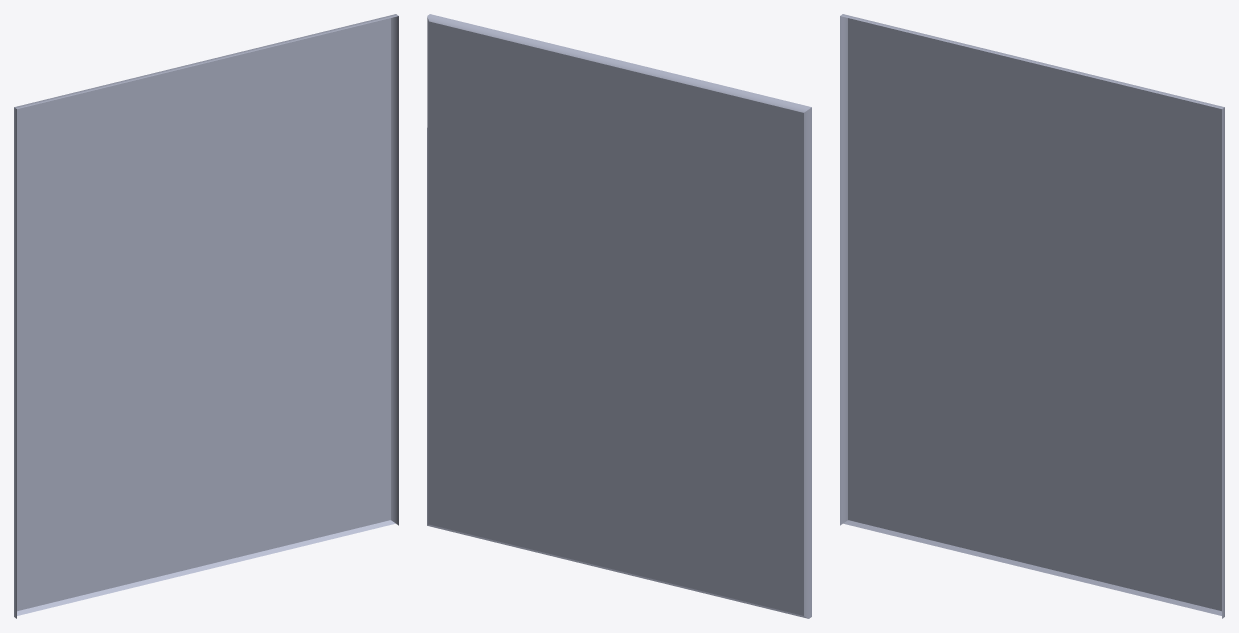
Rendered from Friday_Tubwall2.fbx.
3 renders of one model, left to right at view 1: azimuth 30°, elevation 25°; view 2: azimuth 150°, elevation 25°; view 3: azimuth 330°, elevation 25°, orthographic.
Visible parts, largest first — view 1: TubWall_2; view 2: TubWall_2; view 3: TubWall_2.
Boxes of the visible parts, bbox=[...] form: TubWall_2: bbox=[14, 14, 398, 618]; TubWall_2: bbox=[427, 14, 811, 618]; TubWall_2: bbox=[840, 14, 1224, 618].
Bounding box in the file's own units: 75.99 × 96.89 × 1.55.
